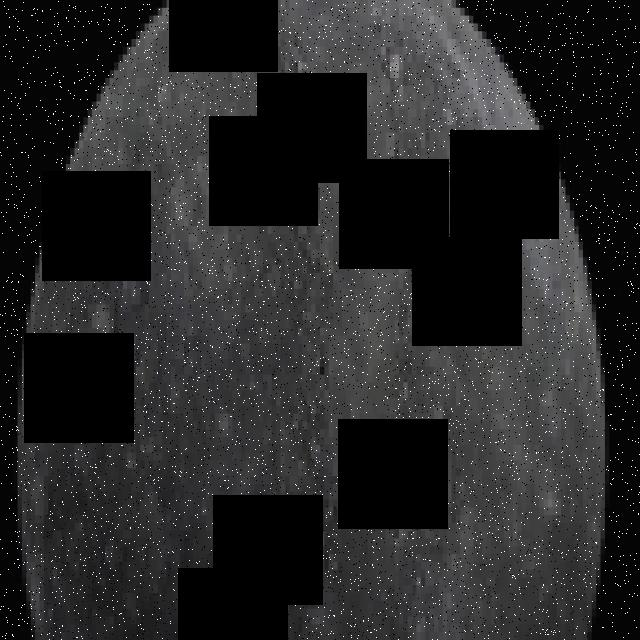Mercury: (18, 0, 610, 640)
